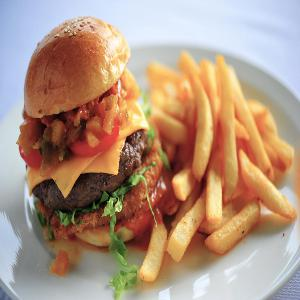cheeseburger: (15, 15, 160, 267)
fries: (158, 54, 299, 268)
